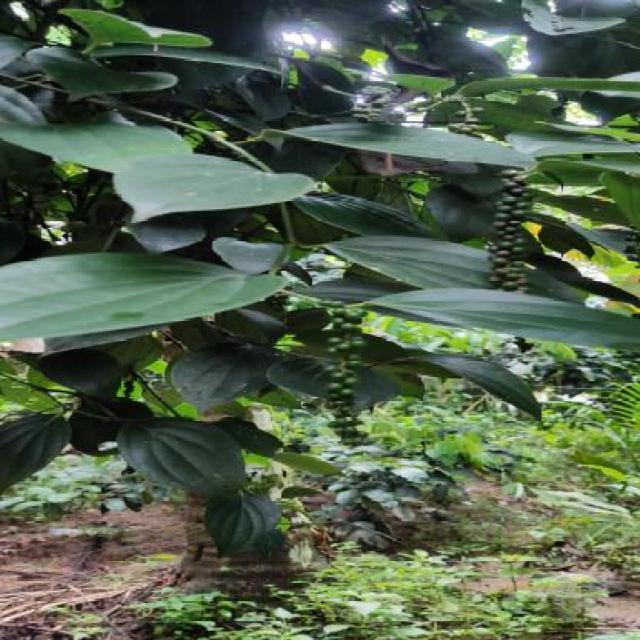UNRIPE: (320, 301, 369, 437), (488, 170, 531, 293), (351, 88, 391, 120), (454, 106, 488, 137)
